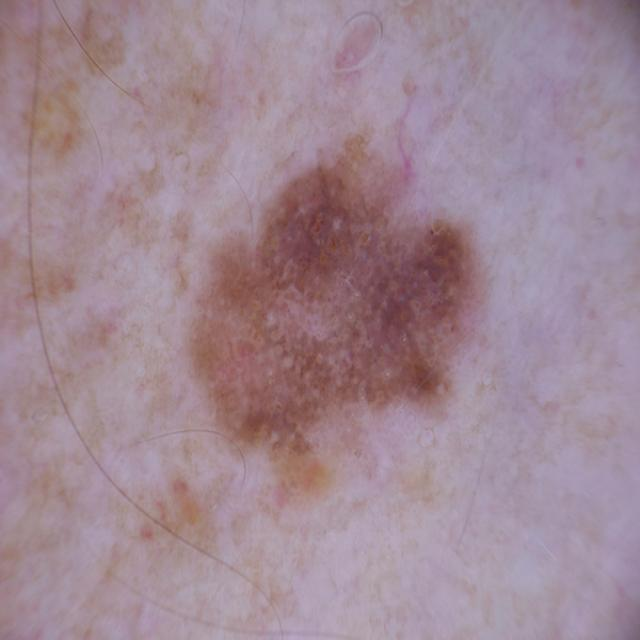Skin-Cancer Pigmented benign keratosis: (63, 43, 640, 569)
